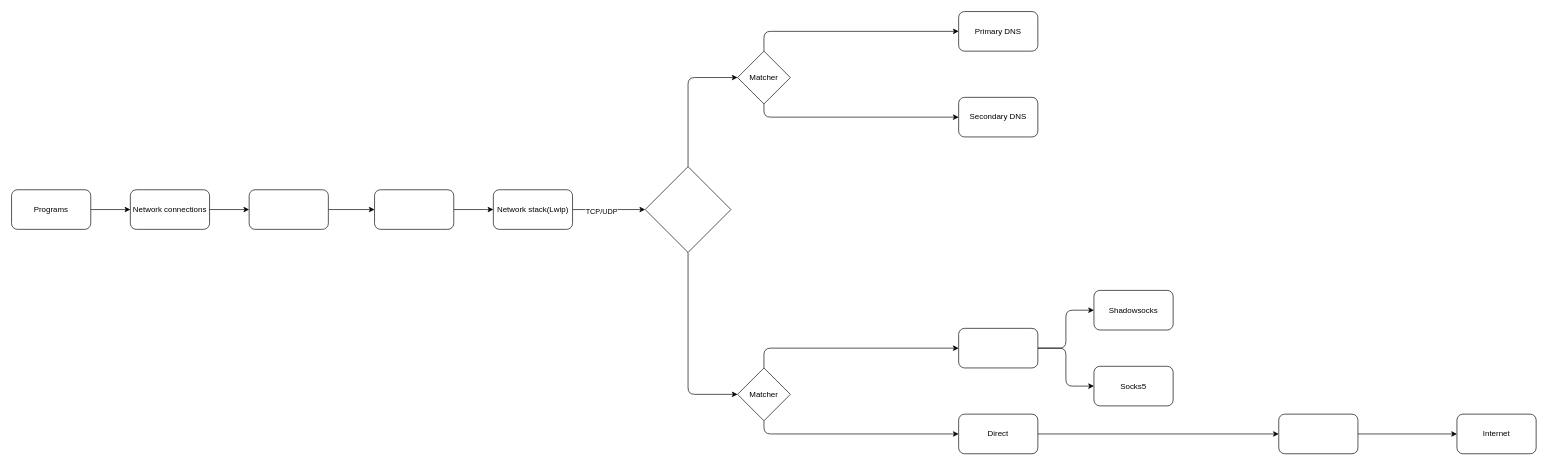
The diagram is 1548 pixels wide and 465 high, and some of its shapes have lost their labels. The shapes that lost their labels are listed below. From the top down, each one's centre as x and y in pixels, then its label:
At (288,209): "Route table".
At (414,209): "Tun device".
At (687,209): "Is DNS(port is 53)?".
At (998,348): "Proxy".
At (1318,433): "Default netwok interface".
